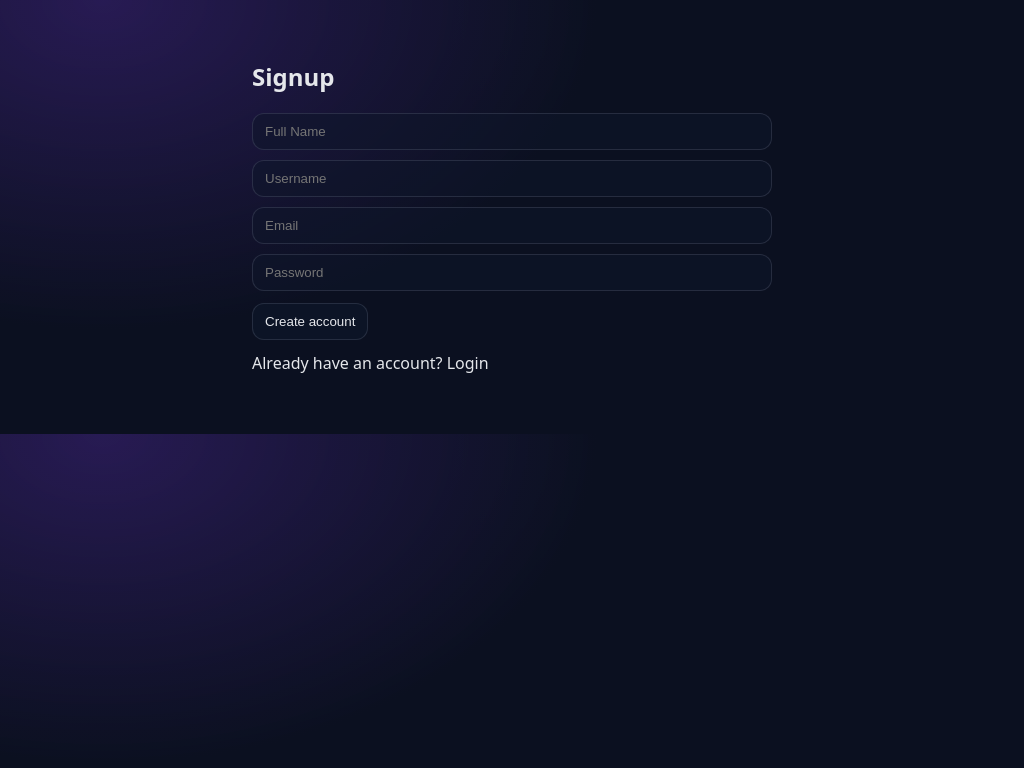
Test: Signup page › shows backend validation error
In the field with placeholder "Full Name": (512,131) left=252, top=113, right=772, bottom=150, type "Test User"
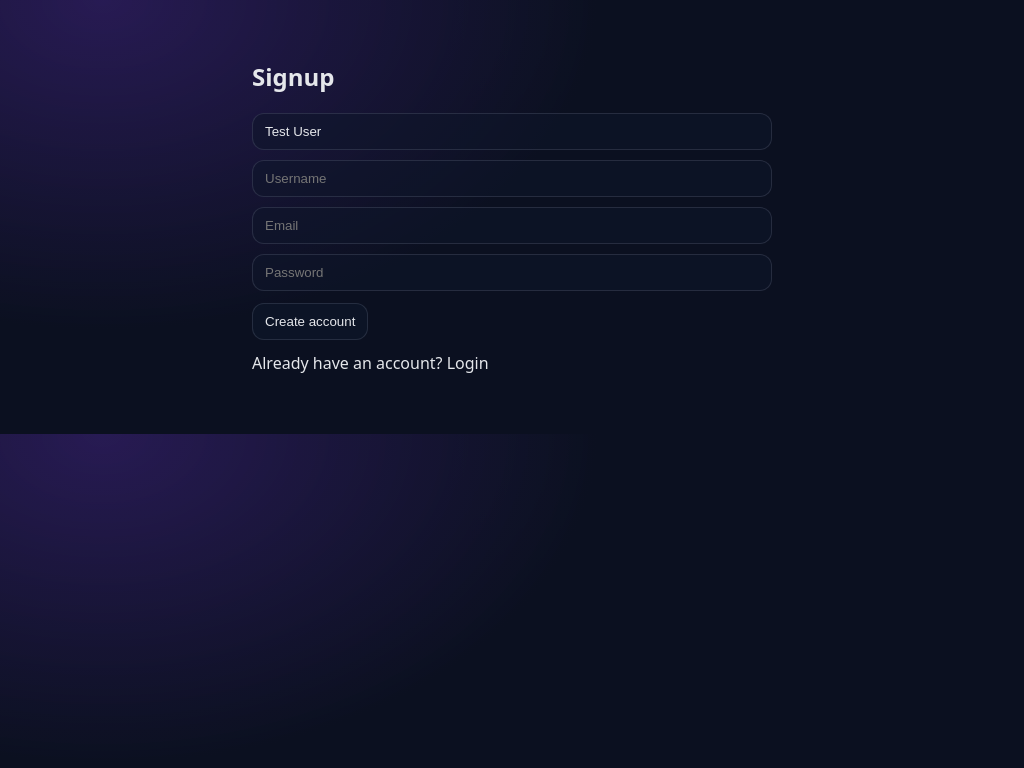
In the field with placeholder "Username": (512,178) left=252, top=160, right=772, bottom=197, type "newuser"
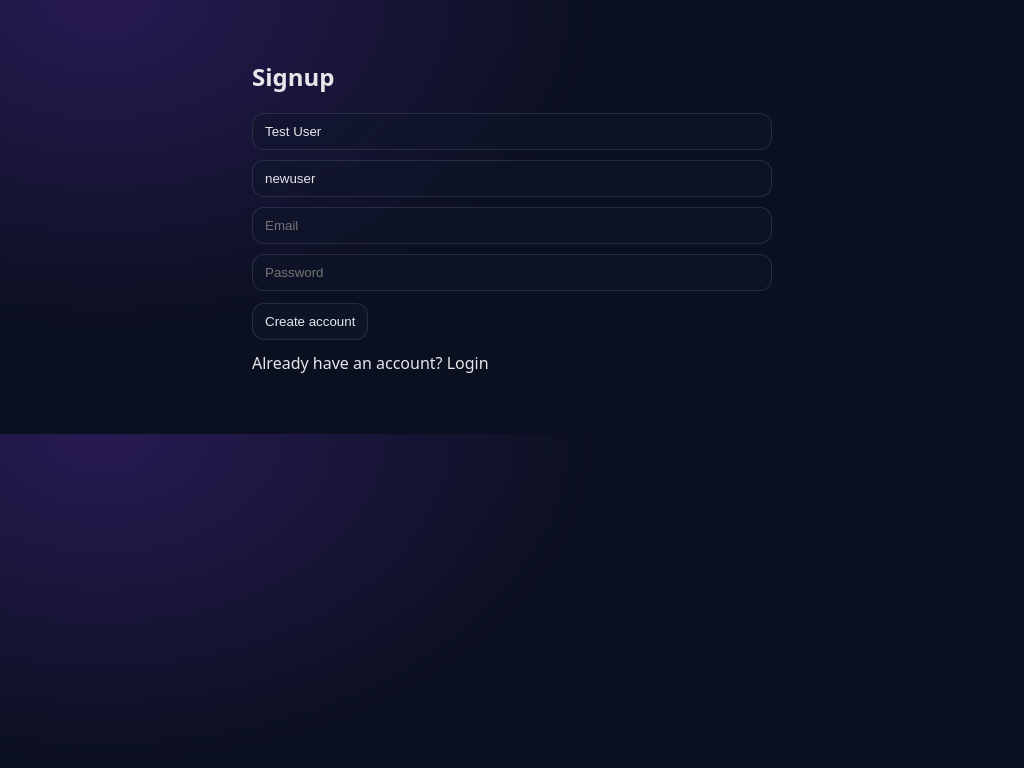
In the field with placeholder "Email": (512,225) left=252, top=207, right=772, bottom=244, type "new@example.com"
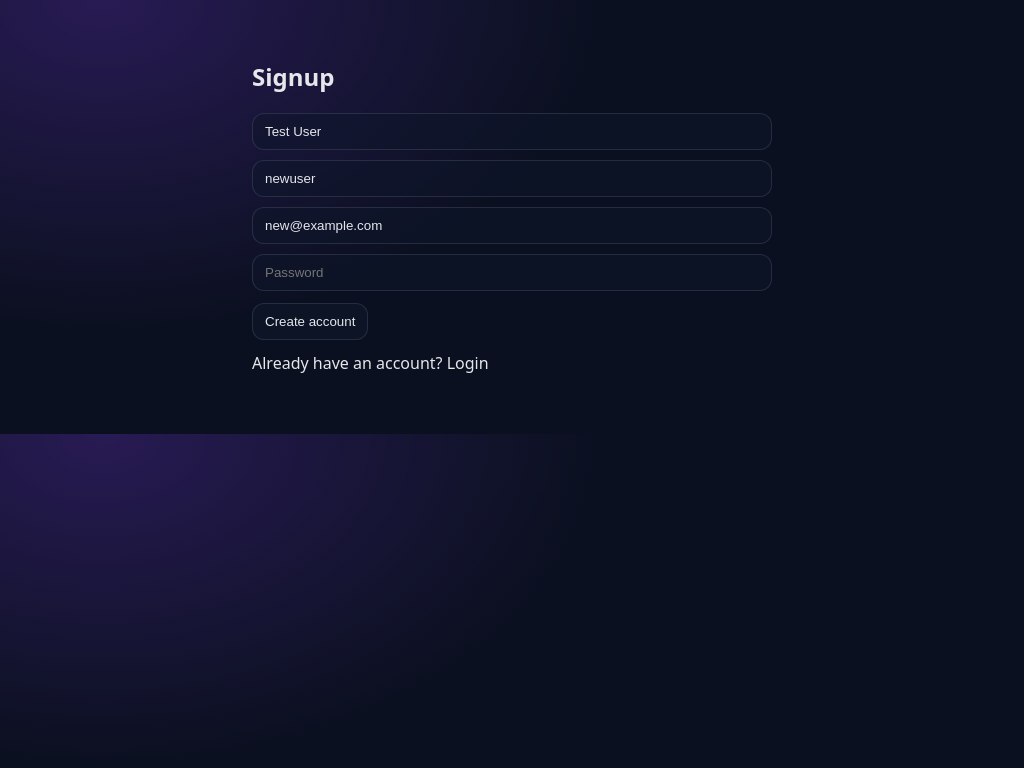
In the password field with placeholder "Password": (512,272) left=252, top=254, right=772, bottom=291, type "short"
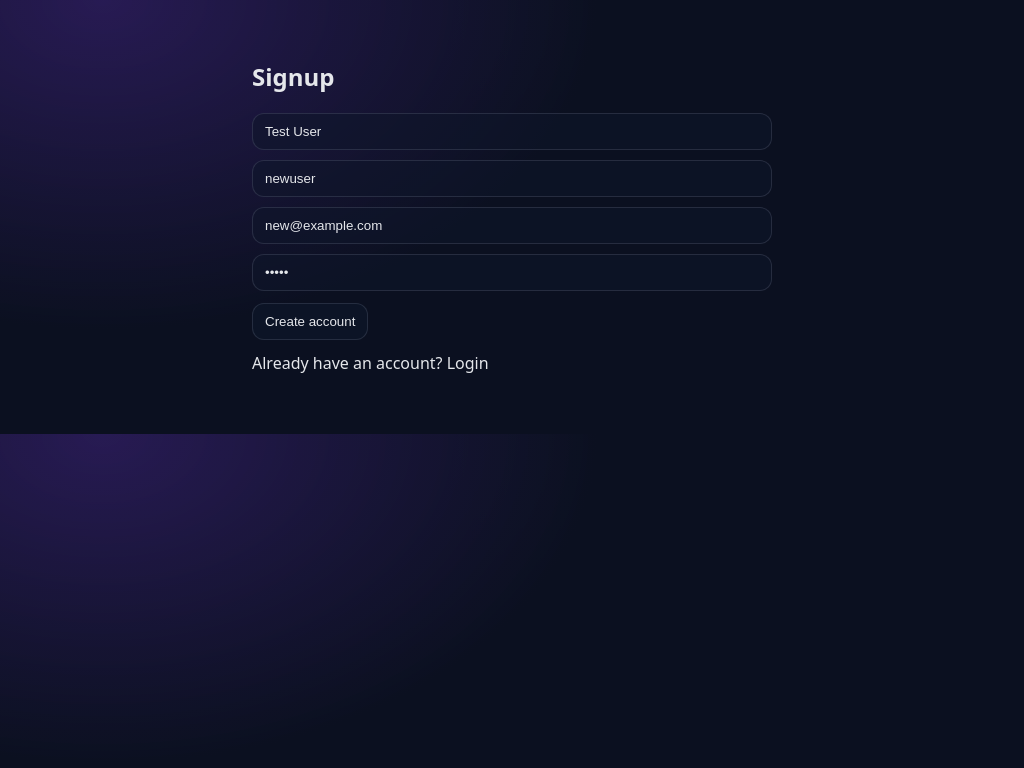
Click the button: (310,321) left=252, top=303, right=368, bottom=340
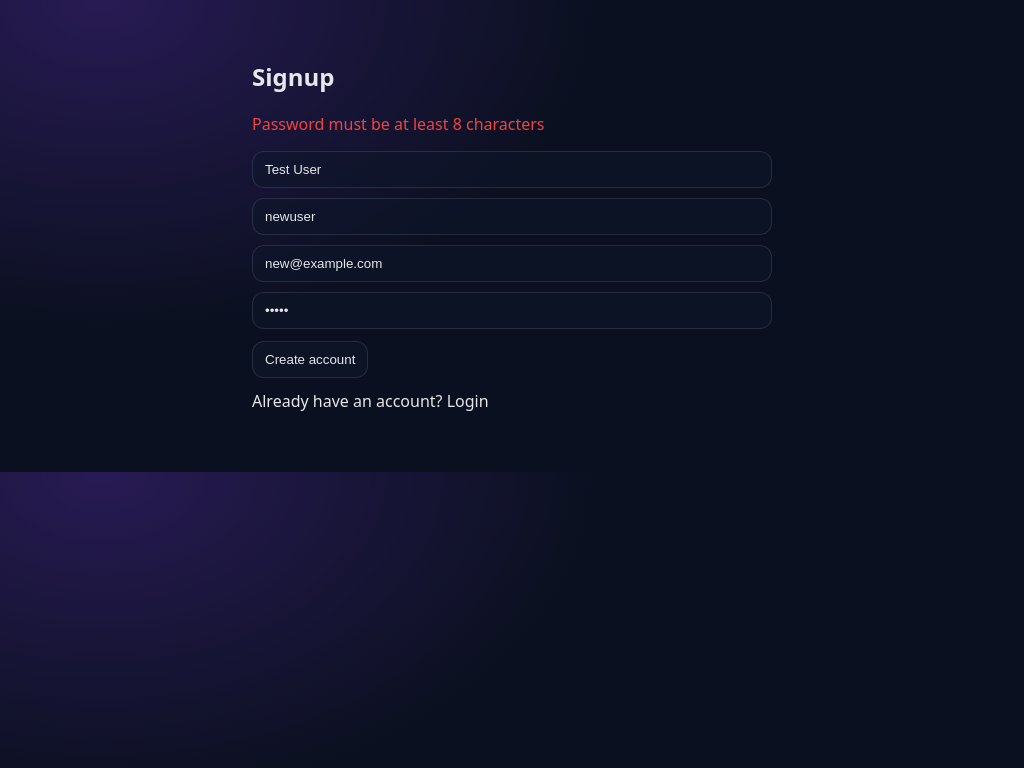
Result: the text "Password must be at least 8 characters" is shown at left=252, top=113, right=544, bottom=135
